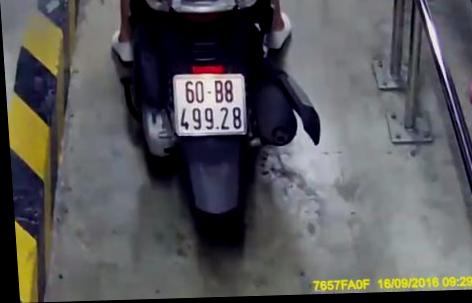License_Plate: (158, 68, 254, 144)
